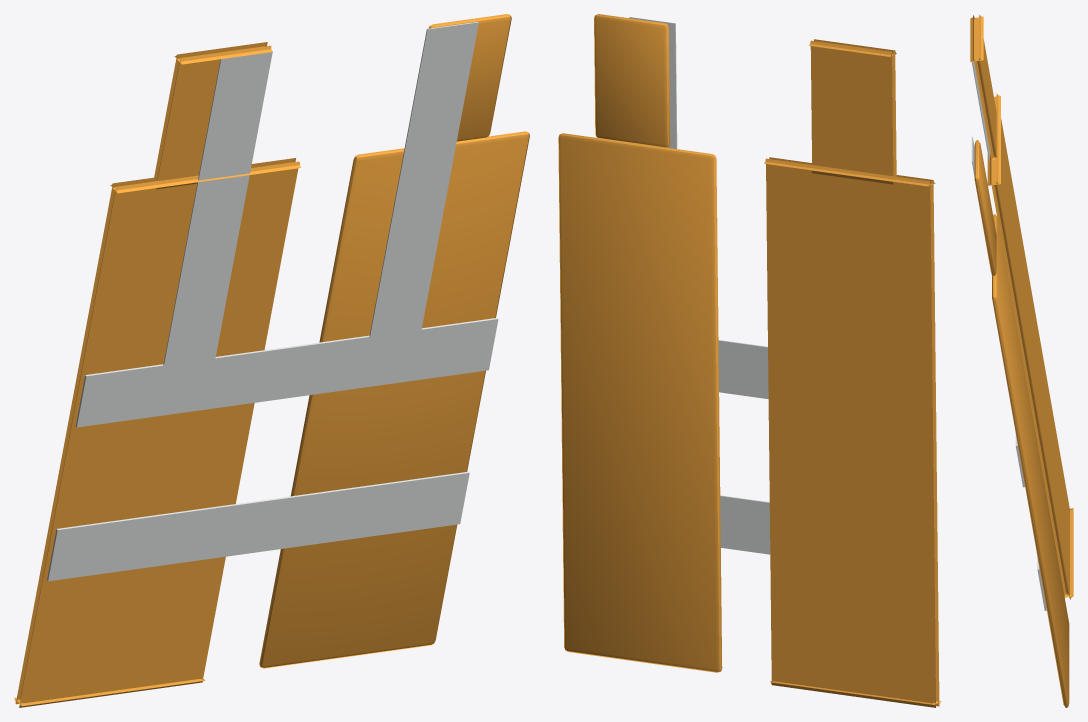
Rendered from SER-EPI-007_anim.glb.
3 renders of one model, left to right at view 1: azimuth 30°, elevation 25°; view 2: azimuth 150°, elevation 25°; view 3: azimuth 270°, elevation 25°, orthographic. The views are drawn at different scales.
Parts seen in each view (by area): view 1: SER-EPI-007_anim0; view 2: SER-EPI-007_anim0; view 3: SER-EPI-007_anim0.
Part boxes in pixels (bbox=[...]): SER-EPI-007_anim0: bbox=[14, 14, 529, 707]; SER-EPI-007_anim0: bbox=[558, 14, 941, 707]; SER-EPI-007_anim0: bbox=[970, 14, 1073, 707].
Size of the model in its own units: 0.4514 by 0.6505 by 0.1065.
